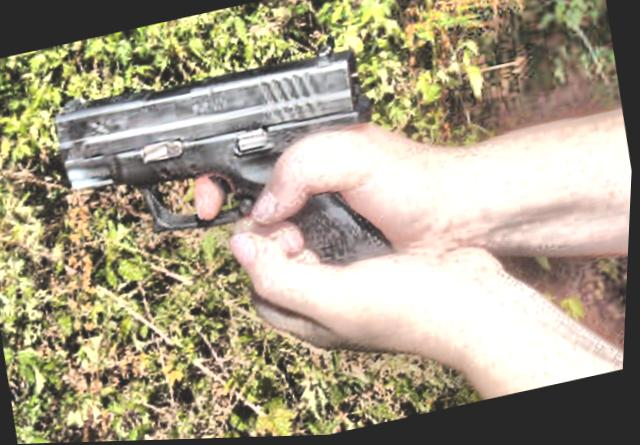pistol: (37, 25, 406, 323)
